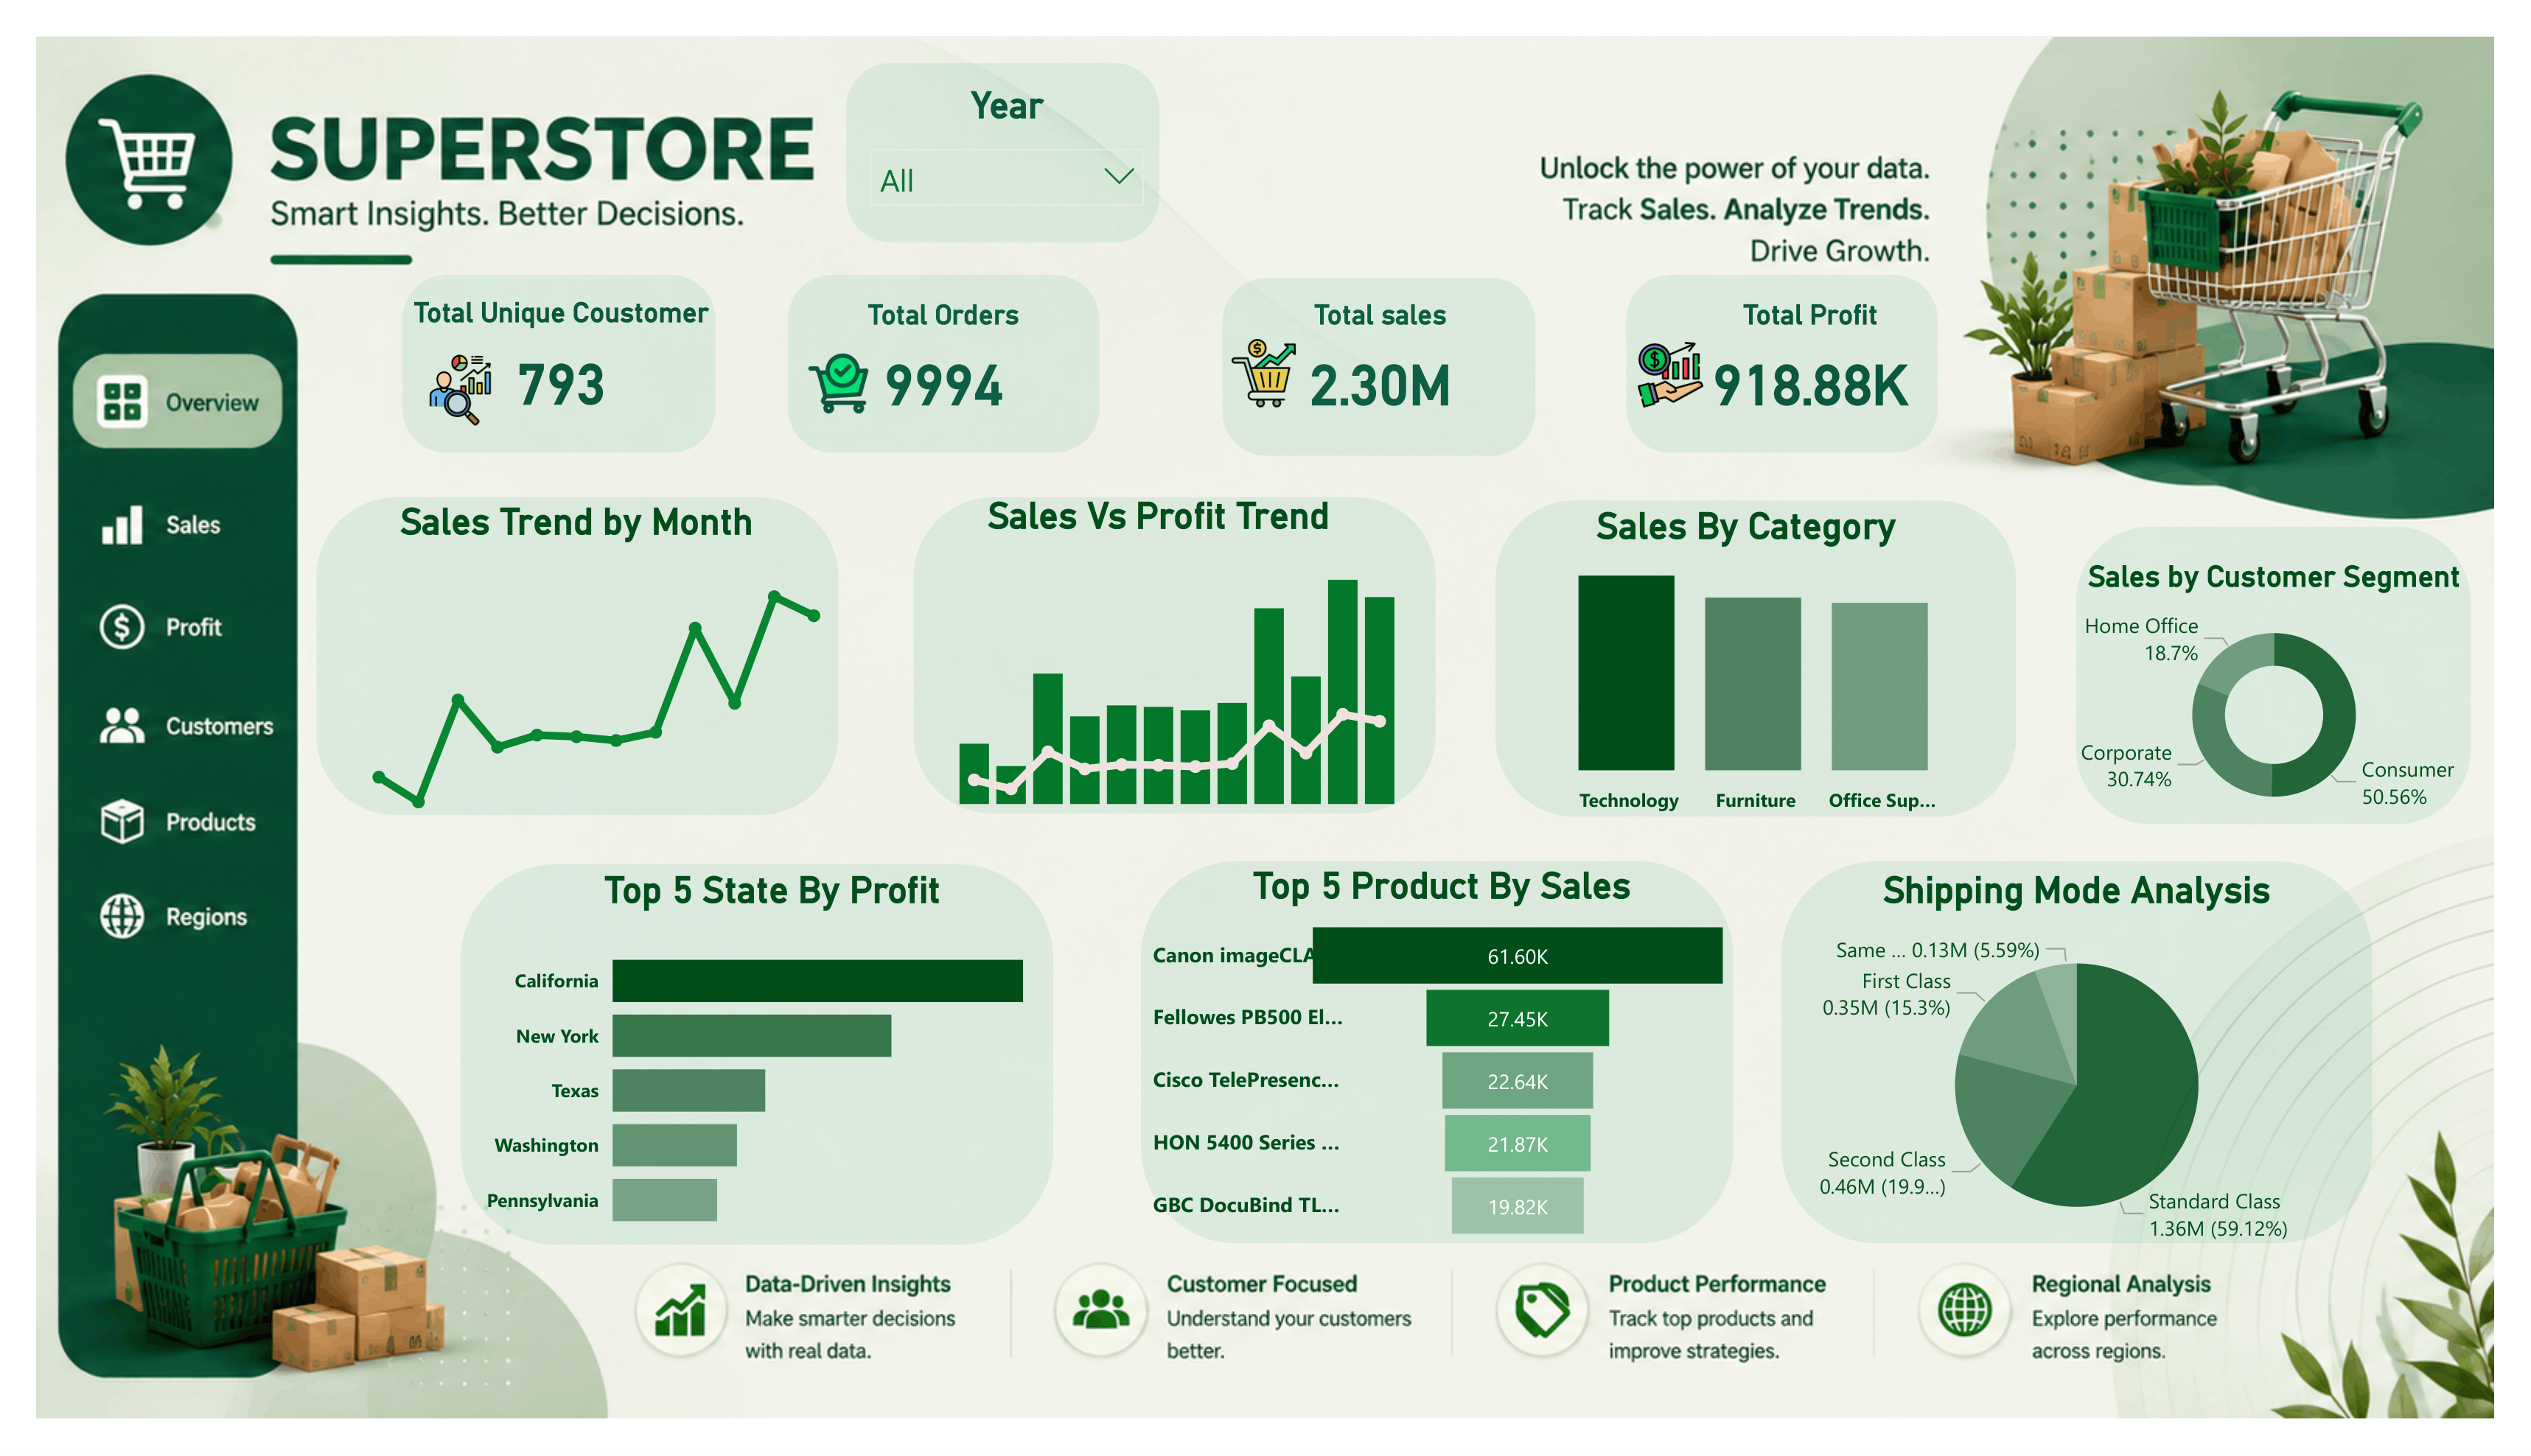

This screenshot's page, from the dashboard's own definition file:
{"tool":"powerbi","page":{"name":"Dashhboard","canvas":[1600,900],"ordinal":0},"visuals":[{"type":"shape","box":[238.3,155.3,203.6,116.1],"z":0},{"type":"shape","box":[1034.5,155.3,203.6,116.1],"z":1000},{"type":"card","title":"Total Orders","fields":{"Values":["SuperStore Dataset.Total_orders"]},"box":[494.6,170.4,191.5,90.5],"z":2000},{"type":"card","title":"Total Profit","fields":{"Values":["SuperStore Dataset.Total_profit"]},"box":[1060.2,170.4,190,90.5],"z":3000},{"type":"card","title":"Total sales","fields":{"Values":["SuperStore Dataset.Total_sales"]},"box":[779.7,170.4,190,90.5],"z":4000},{"type":"card","title":"Total Unique Coustomer","fields":{"Values":["SuperStore Dataset.Uniwue_customer"]},"box":[238.3,168.9,206.6,92],"z":5000},{"type":"shape","box":[182.5,300.1,339.3,206.6],"z":6000},{"type":"image","box":[247.3,191.5,57.3,75.4],"z":7000},{"type":"image","box":[772.1,182.5,54.3,72.4],"z":8000},{"type":"image","box":[494.6,190,54.3,70.9],"z":9000},{"type":"image","box":[1037.5,184,52.8,70.9],"z":10000},{"type":"shape","box":[772.1,156.8,203.6,116.1],"z":11000},{"type":"shape","box":[488.6,155.3,203.6,116.1],"z":12000},{"type":"shape","box":[571.2,300.2,339.6,205.8],"z":13000},{"type":"shape","box":[950.1,301.6,339.3,206.6],"z":14000},{"type":"shape","box":[1327.6,319,257.3,193.8],"z":15000},{"type":"lineChart","title":"Sales Trend by Month","fields":{"Category":["SuperStore Dataset.Month"],"Y":["SuperStore Dataset.Total_sales"]},"box":[181.8,301.9,339.6,207.5],"z":16000},{"type":"lineClusteredColumnComboChart","title":"Sales Vs Profit Trend","fields":{"Category":["SuperStore Dataset.Month"],"Y":["Sum(SuperStore Dataset.Sales)"],"Y2":["Sum(SuperStore Dataset.Profit)"]},"box":[571.2,298.5,319,207.5],"z":17000},{"type":"columnChart","title":"Sales By Category","fields":{"Category":["SuperStore Dataset.Category"],"Y":["SuperStore Dataset.Total_sales"]},"box":[953.7,305.3,319,207.5],"z":18000},{"type":"donutChart","title":"Sales by Customer Segment","fields":{"Category":["SuperStore Dataset.Segment"],"Y":["SuperStore Dataset.Total_sales"]},"box":[1324.2,339.6,265.9,176.7],"z":19000},{"type":"shape","box":[276.2,538.6,385.9,248.7],"z":20000},{"type":"shape","box":[718.7,536.9,385.9,248.7],"z":21000},{"type":"shape","box":[1135.5,536.9,385.9,248.7],"z":22000},{"type":"barChart","title":"Top 5 State By Profit","fields":{"Category":["SuperStore Dataset.State"],"Y":["SuperStore Dataset.Total_profit"]},"box":[286.5,542,385.9,250.4],"z":23000},{"type":"funnel","title":"Top 5 Product By Sales","fields":{"Category":["SuperStore Dataset.Product Name"],"Y":["SuperStore Dataset.Total_sales"]},"box":[722.1,538.6,385.9,250.4],"z":24000},{"type":"pieChart","title":"Shipping Mode Analysis","fields":{"Category":["SuperStore Dataset.Ship Mode"],"Y":["SuperStore Dataset.Total_sales"]},"box":[1135.5,542,385.9,250.4],"z":25000},{"type":"shape","box":[526.6,17.2,204.1,116.6],"z":26000},{"type":"slicer","title":"Year","fields":{"Values":["SuperStore Dataset.Order_year"]},"box":[533.4,30.9,197.3,116.6],"z":27000}]}

Visuals, with their boxes on the page's 1600x900 design canvas (x1, y1, x2, y2). These are canvas units, not pixel positions in the 2531x1456 screenshot, which may show the page scaled, cropped or inside an application window:
shape: x1=238 y1=155 x2=442 y2=271
shape: x1=1034 y1=155 x2=1238 y2=271
"Total Orders" card: x1=495 y1=170 x2=686 y2=261
"Total Profit" card: x1=1060 y1=170 x2=1250 y2=261
"Total sales" card: x1=780 y1=170 x2=970 y2=261
"Total Unique Coustomer" card: x1=238 y1=169 x2=445 y2=261
shape: x1=182 y1=300 x2=522 y2=507
image: x1=247 y1=192 x2=305 y2=267
image: x1=772 y1=182 x2=826 y2=255
image: x1=495 y1=190 x2=549 y2=261
image: x1=1038 y1=184 x2=1090 y2=255
shape: x1=772 y1=157 x2=976 y2=273
shape: x1=489 y1=155 x2=692 y2=271
shape: x1=571 y1=300 x2=911 y2=506
shape: x1=950 y1=302 x2=1289 y2=508
shape: x1=1328 y1=319 x2=1585 y2=513
"Sales Trend by Month" lineChart: x1=182 y1=302 x2=521 y2=509
"Sales Vs Profit Trend" lineClusteredColumnComboChart: x1=571 y1=298 x2=890 y2=506
"Sales By Category" columnChart: x1=954 y1=305 x2=1273 y2=513
"Sales by Customer Segment" donutChart: x1=1324 y1=340 x2=1590 y2=516
shape: x1=276 y1=539 x2=662 y2=787
shape: x1=719 y1=537 x2=1105 y2=786
shape: x1=1136 y1=537 x2=1521 y2=786
"Top 5 State By Profit" barChart: x1=286 y1=542 x2=672 y2=792
"Top 5 Product By Sales" funnel: x1=722 y1=539 x2=1108 y2=789
"Shipping Mode Analysis" pieChart: x1=1136 y1=542 x2=1521 y2=792
shape: x1=527 y1=17 x2=731 y2=134
"Year" slicer: x1=533 y1=31 x2=731 y2=148
